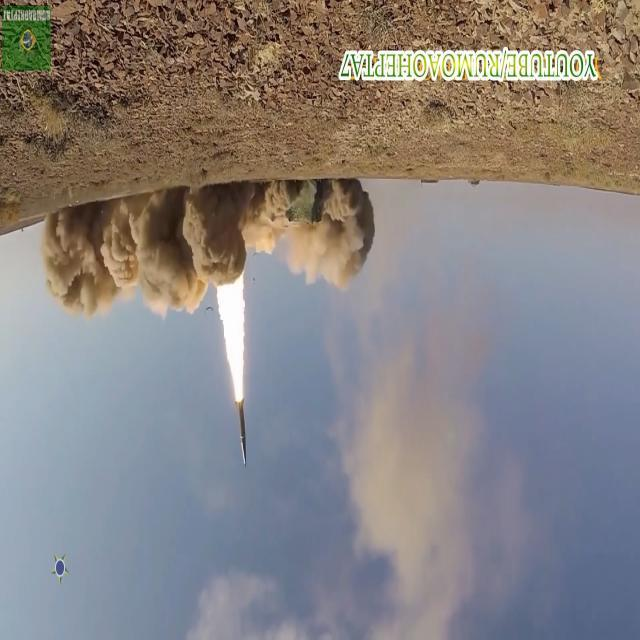Missile: (234, 383, 252, 474)
